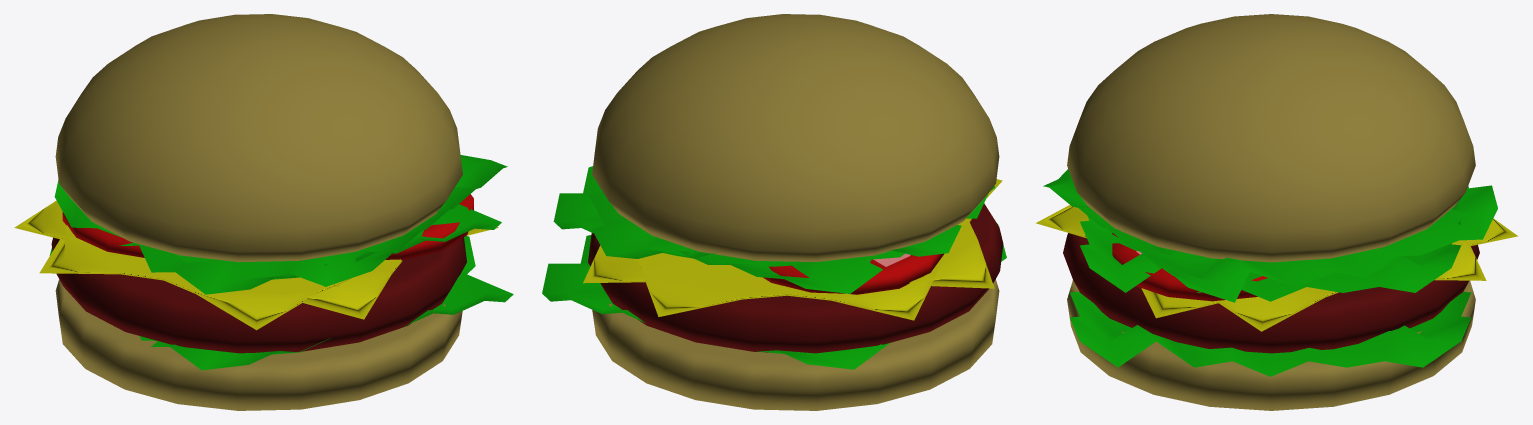
The model's file is hamburger.fbx.
3 views of the same model, side by side, from view 1: azimuth 30°, elevation 25°; view 2: azimuth 150°, elevation 25°; view 3: azimuth 270°, elevation 25° (orthographic).
Parts seen in each view (by area): view 1: hamburgerBunTop, hamburgerBunBottom, hamburgerPatty, lettuce3, cheeseSlice, cheeseSlice1, lettuce2, lettuce1, tomatoSlice, tomatoSlice2; view 2: hamburgerBunTop, hamburgerBunBottom, hamburgerPatty, cheeseSlice, cheeseSlice1, lettuce2, lettuce3, lettuce1, tomatoSlice2; view 3: hamburgerBunTop, hamburgerPatty, hamburgerBunBottom, lettuce3, lettuce1, lettuce2, cheeseSlice, cheeseSlice1, tomatoSlice.
Boxes of the visible parts, box(x1,y1,x2,y2) form: hamburgerBunTop: box(55, 14, 462, 262); hamburgerBunBottom: box(55, 279, 462, 410); hamburgerPatty: box(51, 237, 466, 353); lettuce3: box(54, 155, 507, 286); cheeseSlice: box(39, 225, 402, 319); cheeseSlice1: box(14, 200, 498, 330); lettuce2: box(119, 203, 501, 294); lettuce1: box(49, 236, 513, 370); tomatoSlice: box(385, 194, 473, 260); tomatoSlice2: box(62, 212, 144, 257); hamburgerBunTop: box(592, 14, 999, 262); hamburgerBunBottom: box(592, 279, 999, 410); hamburgerPatty: box(588, 203, 1003, 353); cheeseSlice: box(636, 219, 994, 316); cheeseSlice1: box(583, 179, 1002, 320); lettuce2: box(553, 186, 995, 293); lettuce3: box(583, 166, 961, 258); lettuce1: box(542, 223, 1006, 369); tomatoSlice2: box(763, 253, 943, 294); hamburgerBunTop: box(1067, 14, 1475, 262); hamburgerPatty: box(1063, 233, 1479, 353); hamburgerBunBottom: box(1067, 280, 1475, 410); lettuce3: box(1043, 169, 1497, 302); lettuce1: box(1070, 291, 1470, 376); lettuce2: box(1080, 198, 1461, 301); cheeseSlice: box(1036, 205, 1517, 331); cheeseSlice1: box(1141, 240, 1486, 318); tomatoSlice: box(1112, 232, 1268, 301).
Bounding box in the file's own units: 73.94 × 47.73 × 73.24.
